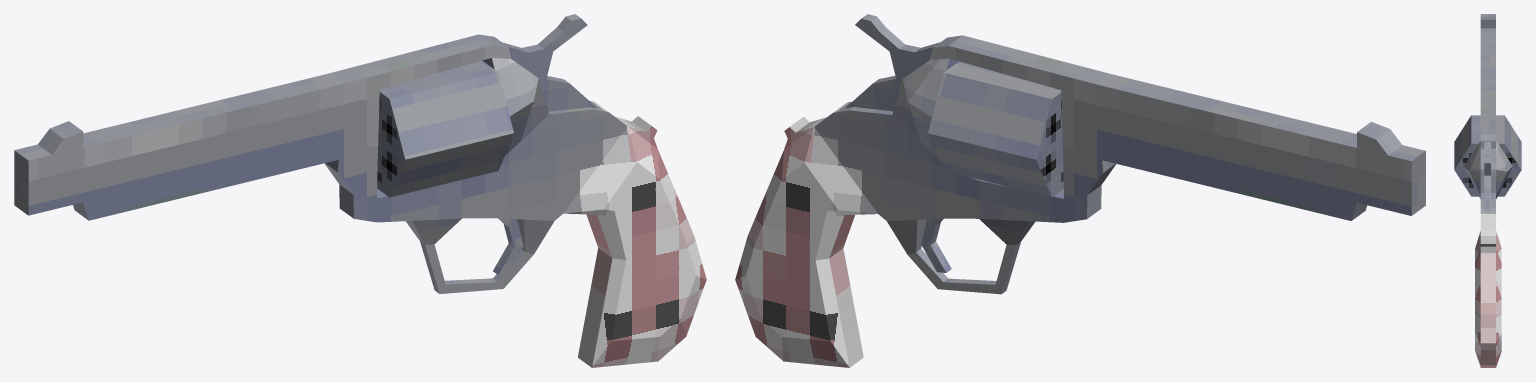
The model's file is viewmodel_sixshooter.fbx.
3 views of the same model, side by side, from view 1: azimuth 30°, elevation 25°; view 2: azimuth 150°, elevation 25°; view 3: azimuth 270°, elevation 25° (orthographic). The views are drawn at different scales.
Visible parts, largest first — view 1: Plane_002; view 2: Plane_002; view 3: Plane_002.
Part boxes in pixels (x1=…): Plane_002: x1=14, y1=14, x2=706, y2=367; Plane_002: x1=735, y1=14, x2=1425, y2=367; Plane_002: x1=1454, y1=14, x2=1521, y2=367.
Size of the model in its own units: 0.994 by 0.5187 by 0.1594.
Materials: 1 (1 with a texture image).
